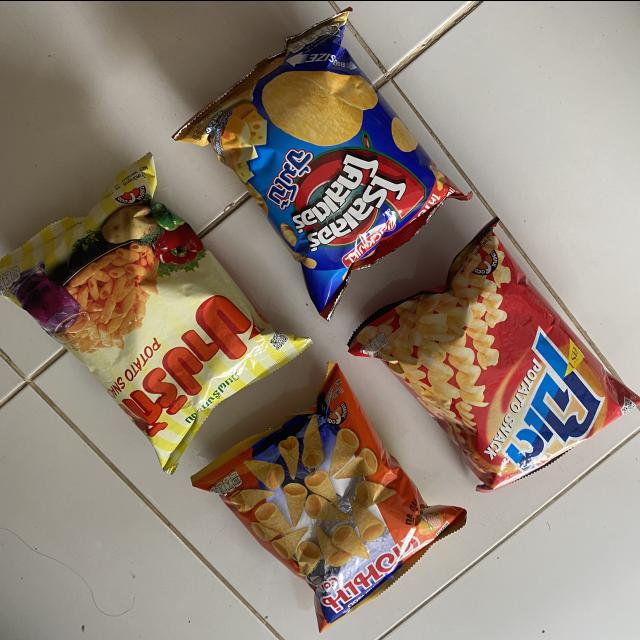plastik: (0, 152, 311, 472), (173, 7, 472, 317), (349, 218, 640, 492), (191, 362, 467, 631)
